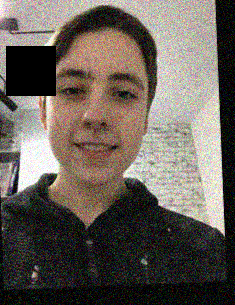without_mask: (42, 66, 153, 186)
